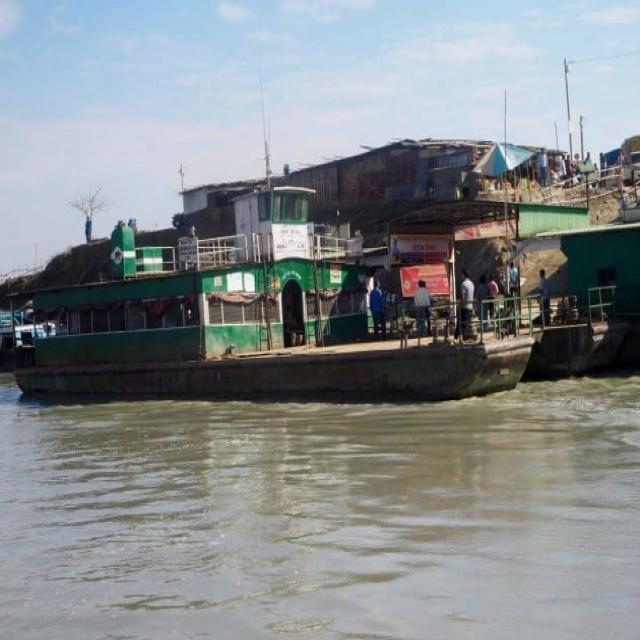houseboat: (3, 131, 543, 425)
